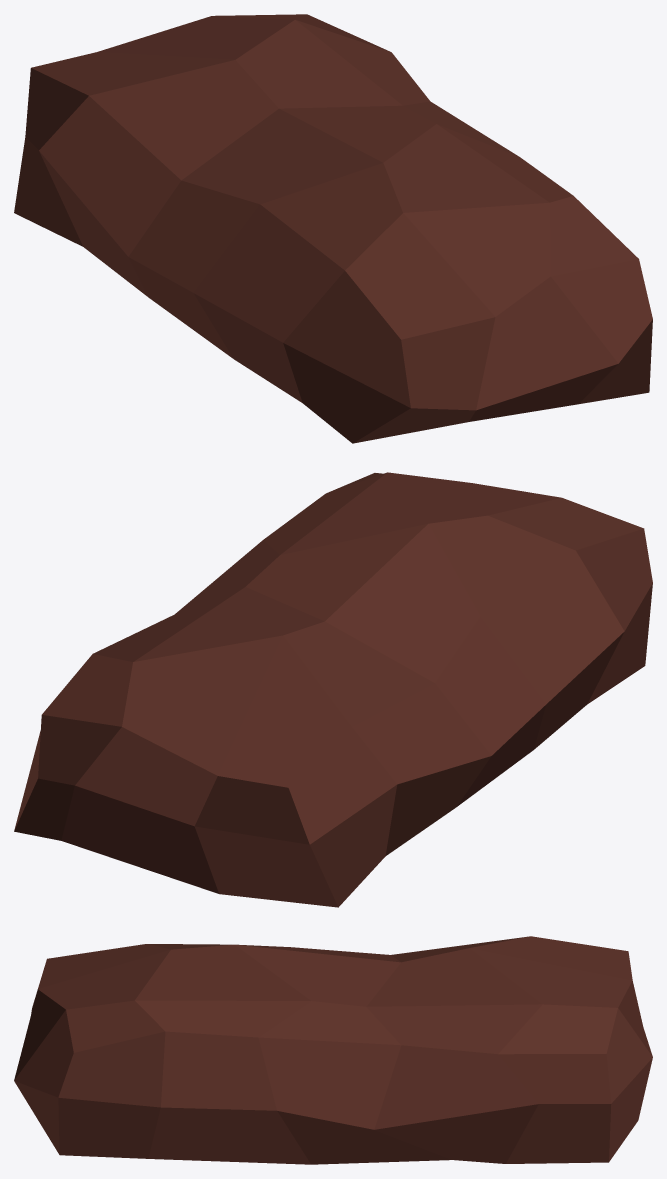
File: drownie.fbx
3 views of the same model, one above another, from view 1: azimuth 30°, elevation 25°; view 2: azimuth 150°, elevation 25°; view 3: azimuth 270°, elevation 25° (orthographic). The views are drawn at different scales.
Visible parts, largest first — view 1: Drownie; view 2: Drownie; view 3: Drownie.
Boxes of the visible parts, box(x1,y1,x2,y2) form: Drownie: box(14, 14, 652, 443); Drownie: box(14, 472, 652, 907); Drownie: box(14, 936, 652, 1164).
Bounding box in the file's own units: 0.1829 × 0.1 × 0.3452.
